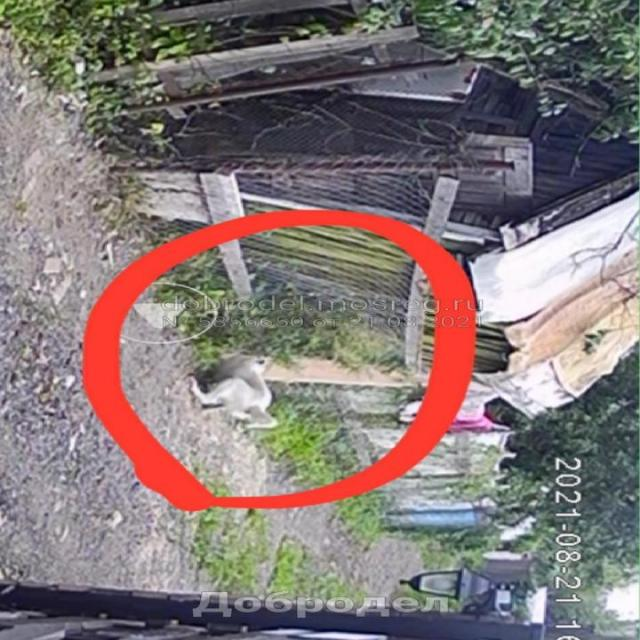dog: (196, 343, 277, 432)
